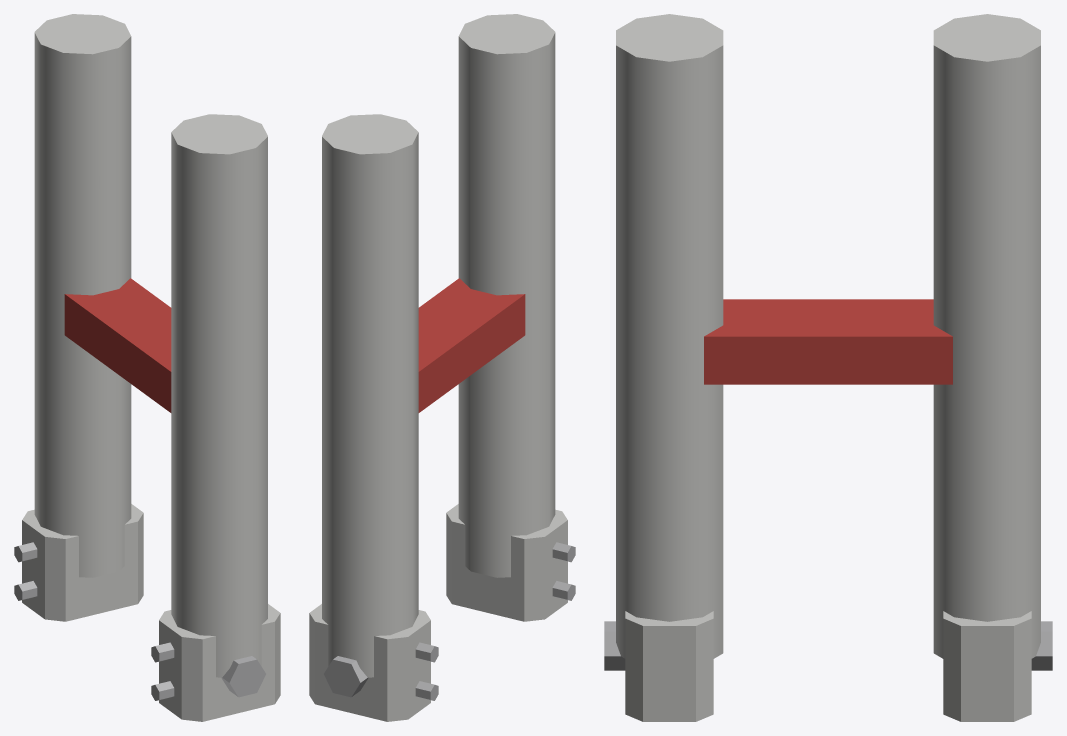
Rendered from scrambler_classic_brace_lower_lod1.glb.
The picture shows the model from 3 angles, left to right: view 1: azimuth 30°, elevation 25°; view 2: azimuth 150°, elevation 25°; view 3: azimuth 270°, elevation 25°; orthographic projection. The views are drawn at different scales.
Parts seen in each view (by area): view 1: scrambler_classic_brace_lower_lod1; view 2: scrambler_classic_brace_lower_lod1; view 3: scrambler_classic_brace_lower_lod1.
Part boxes in pixels (x1,y1,x2,y2): scrambler_classic_brace_lower_lod1: (14, 14, 280, 721); scrambler_classic_brace_lower_lod1: (309, 14, 575, 721); scrambler_classic_brace_lower_lod1: (604, 14, 1052, 721).
Size of the model in its own units: 0.0865 by 0.41 by 0.254.
